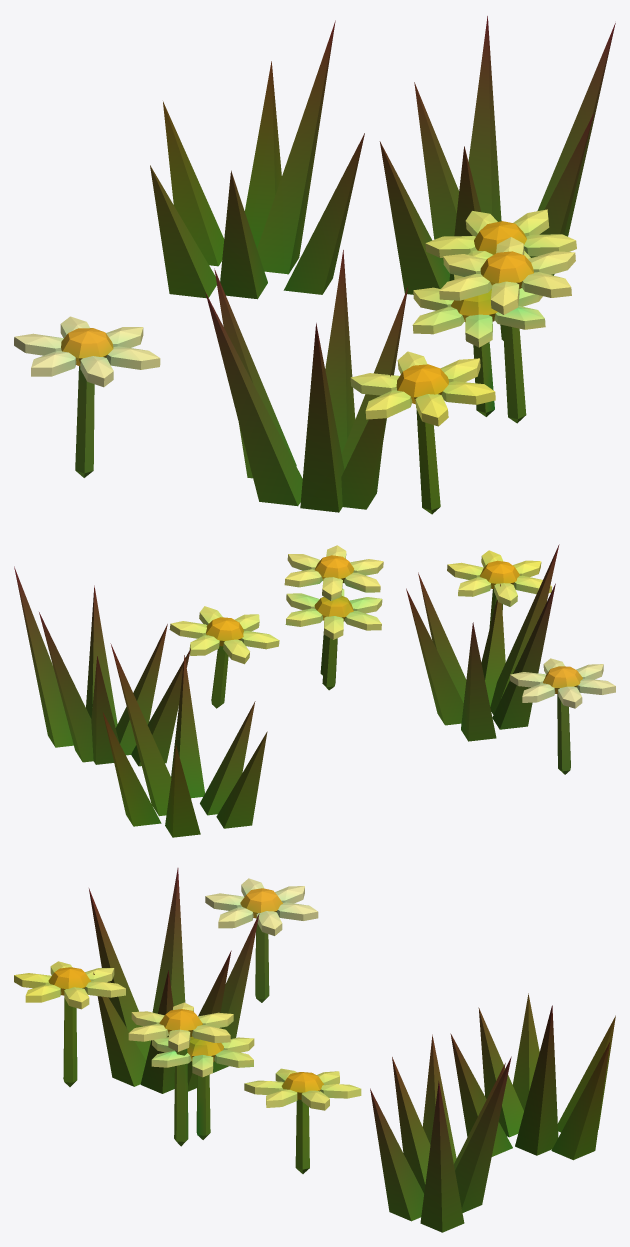
File: Flower_Patch_01.fbx
3 renders of one model, top to bottom at view 1: azimuth 30°, elevation 25°; view 2: azimuth 150°, elevation 25°; view 3: azimuth 270°, elevation 25°, orthographic. The views are drawn at different scales.
Parts seen in each view (by area): view 1: Flower_Patch_01; view 2: Flower_Patch_01; view 3: Flower_Patch_01.
Part boxes in pixels (x1,y1,x2,y2): Flower_Patch_01: (14, 16, 615, 514); Flower_Patch_01: (14, 544, 615, 837); Flower_Patch_01: (14, 868, 615, 1232).
Size of the model in its own units: 1 by 0.2998 by 0.9578.
